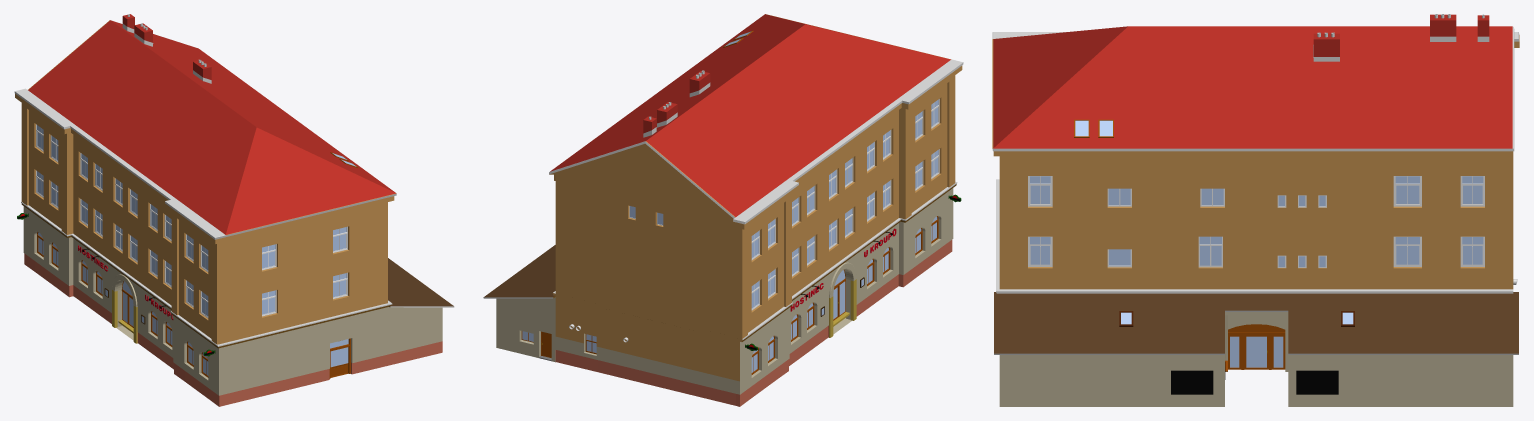
Rendered from UKroupu.glb.
3 views of the same model, side by side, from view 1: azimuth 30°, elevation 25°; view 2: azimuth 150°, elevation 25°; view 3: azimuth 270°, elevation 25° (orthographic). The views are drawn at different scales.
Visible parts, largest first — view 1: budova, vchod; view 2: budova, vchod; view 3: budova, okna střecha.
Part boxes in pixels (x1,y1,x2,y2): budova: (14, 14, 454, 406); vchod: (121, 281, 133, 327); budova: (483, 14, 963, 406); vchod: (833, 270, 845, 320); budova: (992, 14, 1519, 406); okna střecha: (1074, 119, 1113, 137).
Size of the model in its own units: 10.84 by 9.97 by 15.41.
